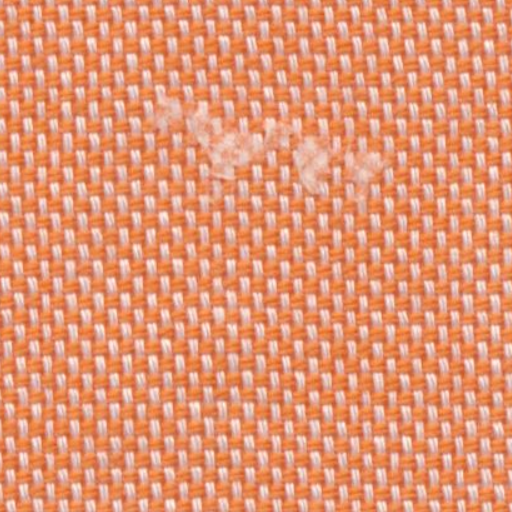DuanSha: (132, 94, 397, 204)
